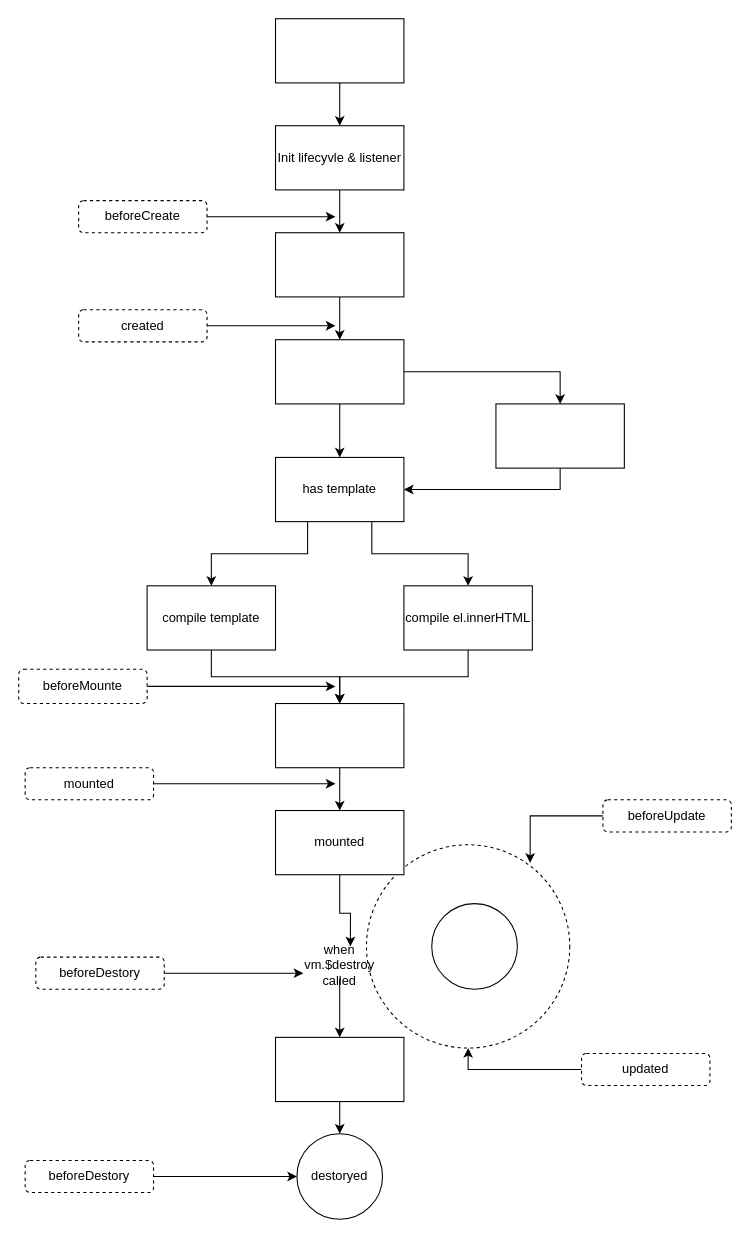
Some shapes in this 750 by 1238 pixel diagram are drawn without their labels. The shapes that lost their labels are listed below. From the top down, each one's centre as x and y in pixels, then its label:
At pixel 339 50: "new Vue()".
At pixel 339 264: "init reactivity & inject".
At pixel 339 371: "has el option".
At pixel 559 435: "has vm.$mount(el)".
At pixel 339 735: "create vm.$el and replace el element with it".
At pixel 474 946: "vitual dom m re-render and patch".
At pixel 339 1069: "teardown activity component and listeners".
